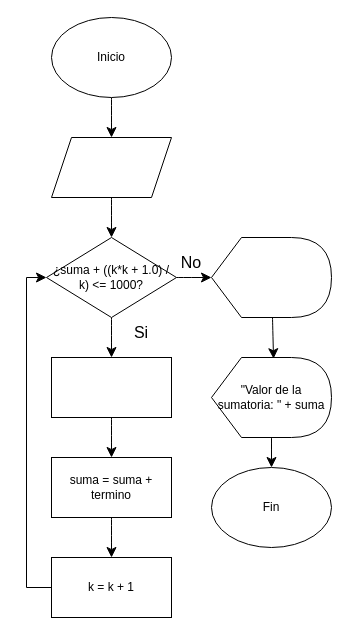
The diagram is 349 pixels wide and 635 high, and some of its shapes have lost their labels. The shapes that lost their labels are listed below. From the top down, each one's box as (x1, y1, x2, y2) in pixels, then its label:
(50, 136, 172, 198): k=1, suma=0, termino
(210, 236, 332, 318): "Numero de terminos necesarios: " + (k - 1)
(50, 356, 172, 418): terminio = (k*k + 1.0) / k
